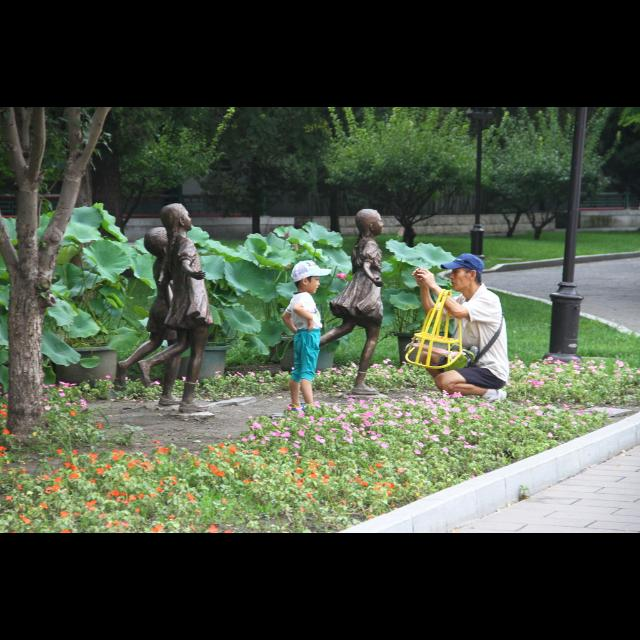Flower: (0, 399, 616, 533), (1, 356, 640, 416), (338, 274, 347, 280)
